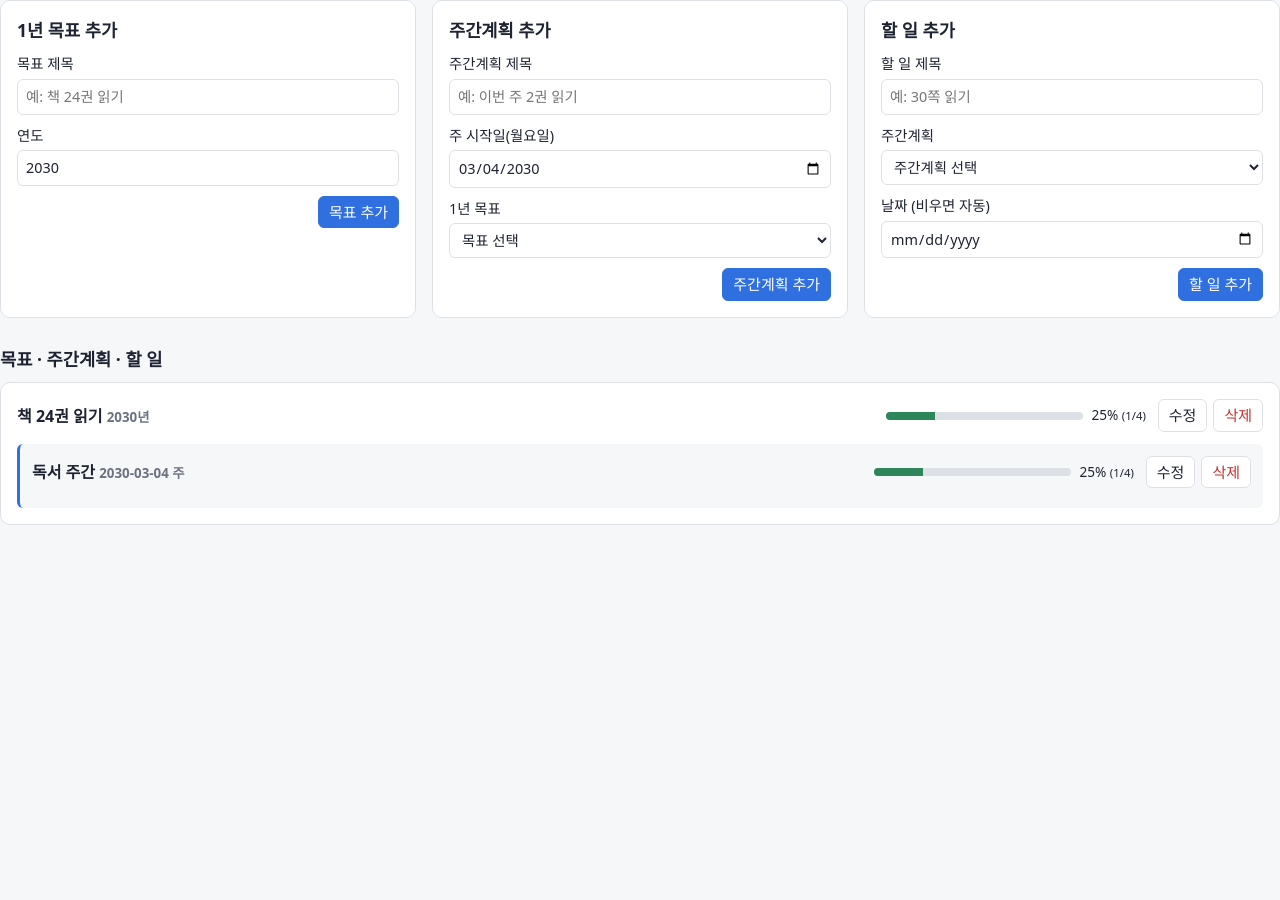
Scenario: ManageView › cancelling the delete dialog sends no DELETE request and keeps the item
The image size is (1280, 900).
Click the button "삭제" in the row of "2030-03-04".
click(1226, 472)  # box top-left (1201, 456), bottom-right (1251, 488)
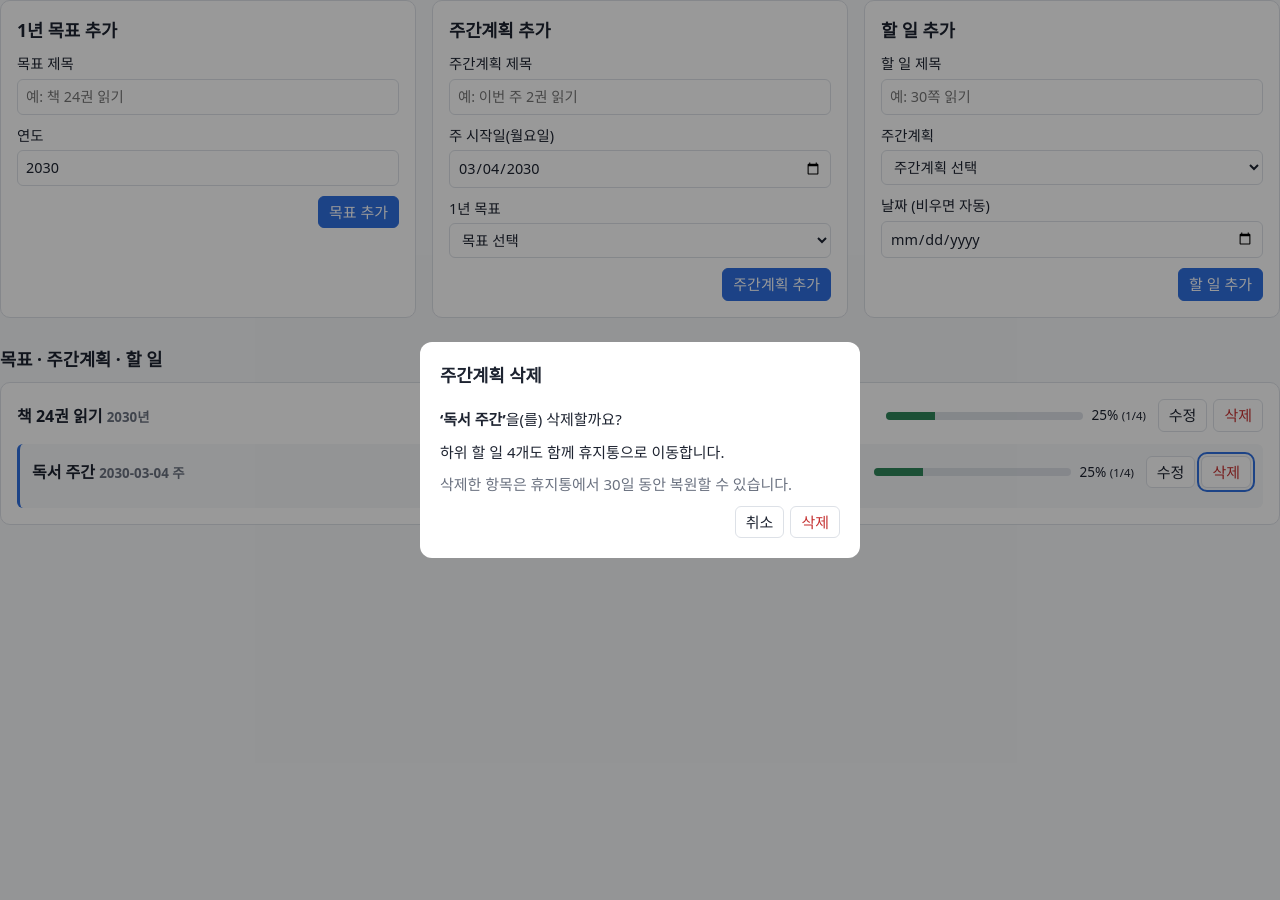
Now the text with test id "descendant-info" shows "하위 할 일 4개", box top-left (440, 442), bottom-right (724, 462)
Click the button "취소".
click(760, 522)  # box top-left (735, 506), bottom-right (784, 538)
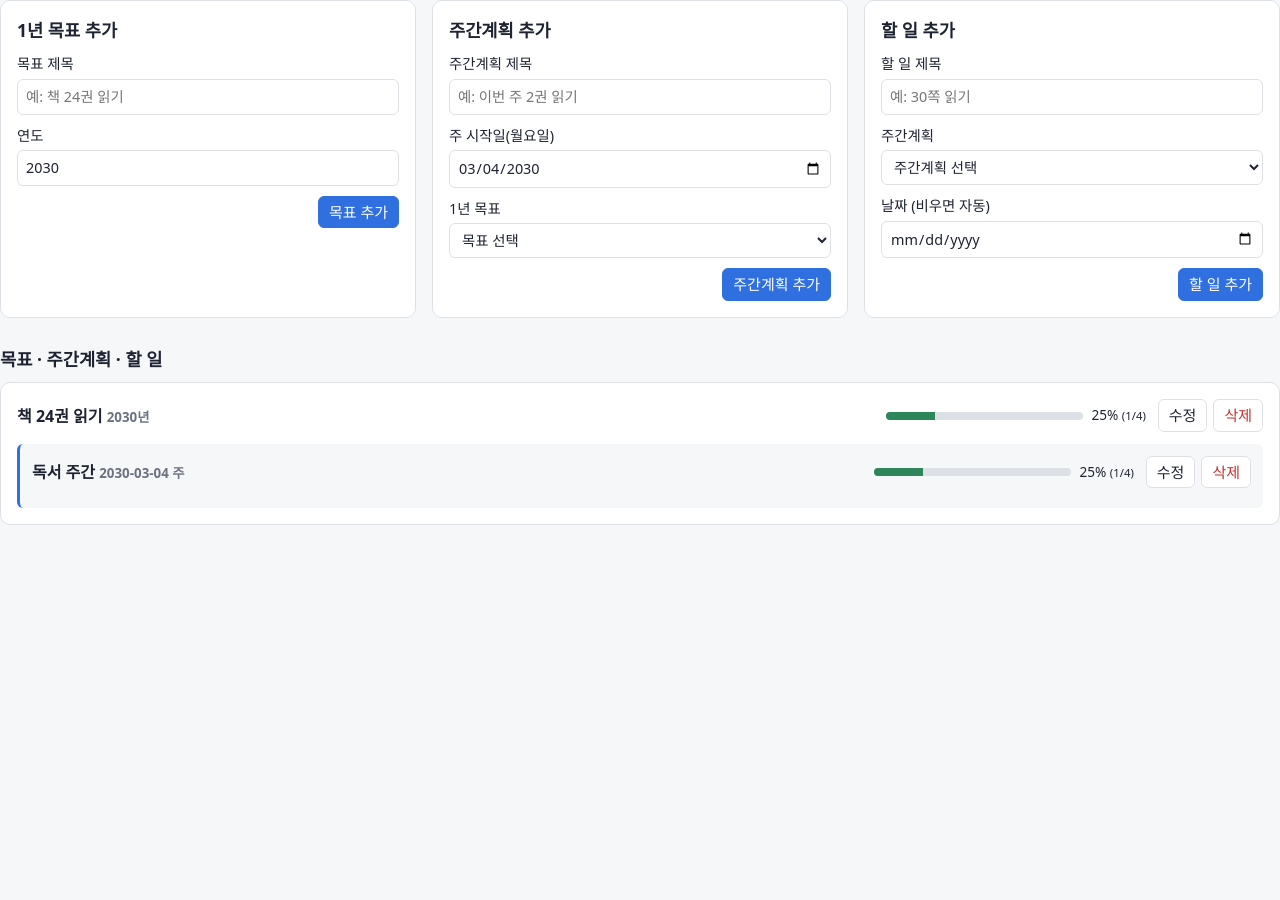
Expected: the element with test id "plan-p1" is shown, top-left (17, 444), bottom-right (1263, 508)
Now the dialog is gone
